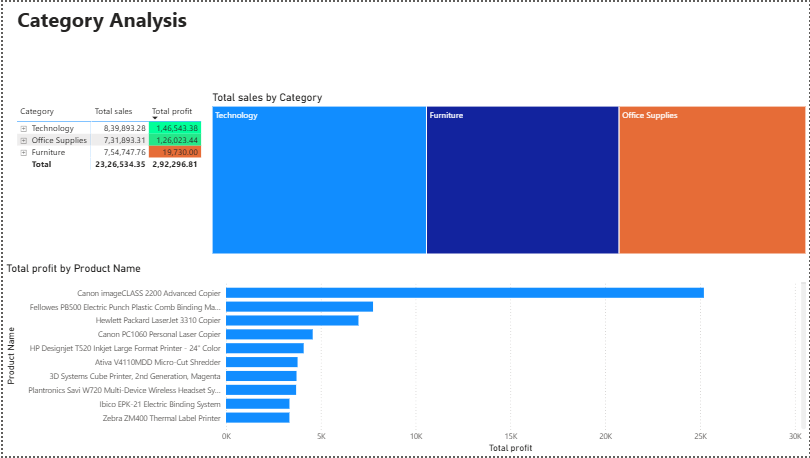

The dashboard page shown, as its layout file describes it:
{"tool":"powerbi","page":{"name":"Category Analysis","canvas":[1280,720],"ordinal":2},"visuals":[{"type":"pivotTable","fields":{"Rows":["Orders.Category","Orders.Sub-Category"],"Values":["Measure.Total sales","Measure.Total profit"]},"box":[16.8,157.9,310.8,246.9],"z":0},{"type":"treemap","fields":{"Group":["Orders.Category"],"Values":["Measure.Total sales"]},"box":[327.6,141.1,952.4,263.7],"z":1000},{"type":"clusteredBarChart","fields":{"Category":["Orders.Product Name"],"Y":["Measure.Total profit"]},"box":[0,413.2,1280,307.4],"z":2000},{"type":"textbox","box":[16.8,0,730.7,127.7],"z":2001}]}

Visuals, with their boxes in screenshot pixels (x1, y1, x2, y2), scaled from the page's 1280x720 canvas onto the 810x458 screenshot:
pivotTable - Orders.Category x Orders.Sub-Category: <bbox>11, 100, 207, 257</bbox>
treemap - Orders.Category x Measure.Total sales: <bbox>207, 90, 809, 257</bbox>
clusteredBarChart - Orders.Product Name x Measure.Total profit: <bbox>0, 263, 809, 457</bbox>
textbox: <bbox>11, 0, 473, 81</bbox>
